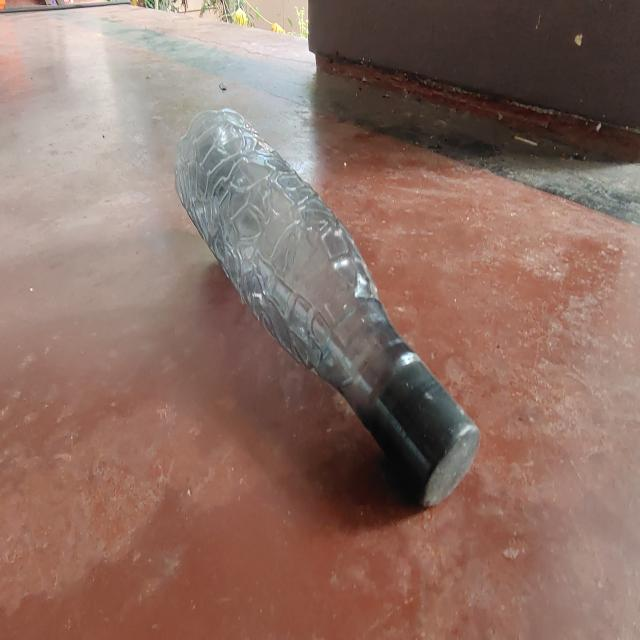plastic: (172, 100, 482, 512)
